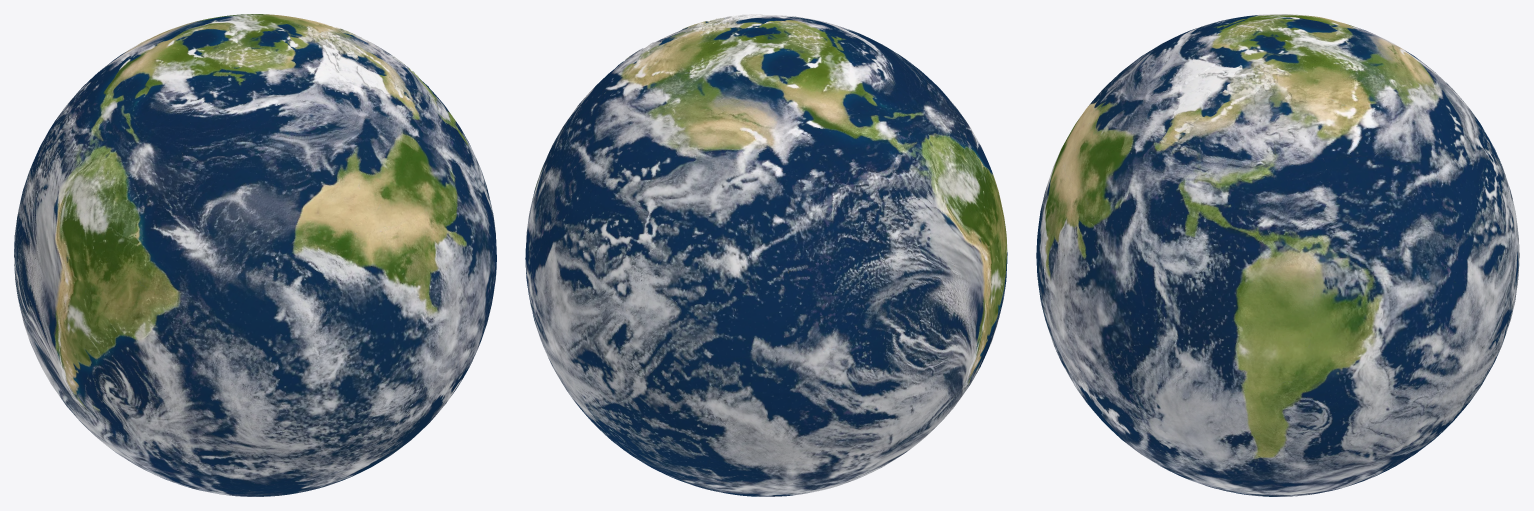
File: cinnova-earth.web.glb
3 renders of one model, left to right at view 1: azimuth 30°, elevation 25°; view 2: azimuth 150°, elevation 25°; view 3: azimuth 270°, elevation 25°, orthographic.
Size of the model in its own units: 1.9 by 1.9 by 1.9.
1 material, 1 textured.
